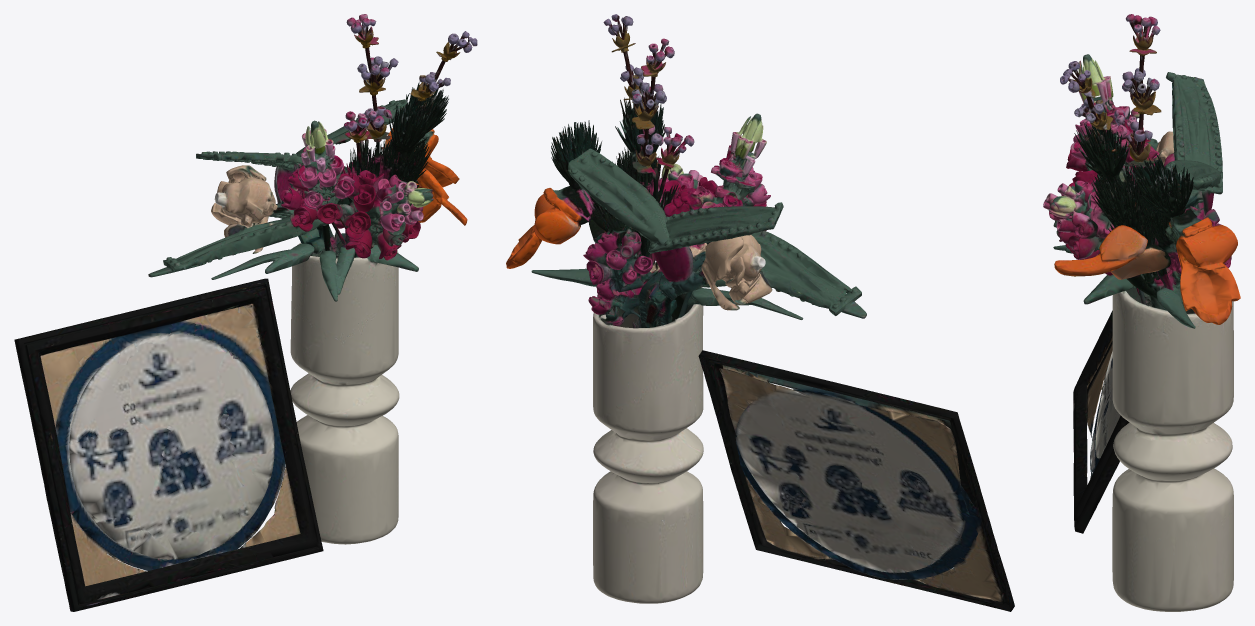
The model's file is cabinet-top.optimized.glb.
The picture shows the model from 3 angles, left to right: view 1: azimuth 30°, elevation 25°; view 2: azimuth 150°, elevation 25°; view 3: azimuth 270°, elevation 25°; orthographic projection. The views are drawn at different scales.
Bounding box in the file's own units: 1.67 × 1.9 × 0.588.
1 material, 1 textured.
